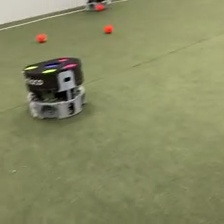ball: (36, 32, 46, 42), (103, 23, 113, 33), (95, 2, 103, 9)
robot: (21, 55, 87, 121)
